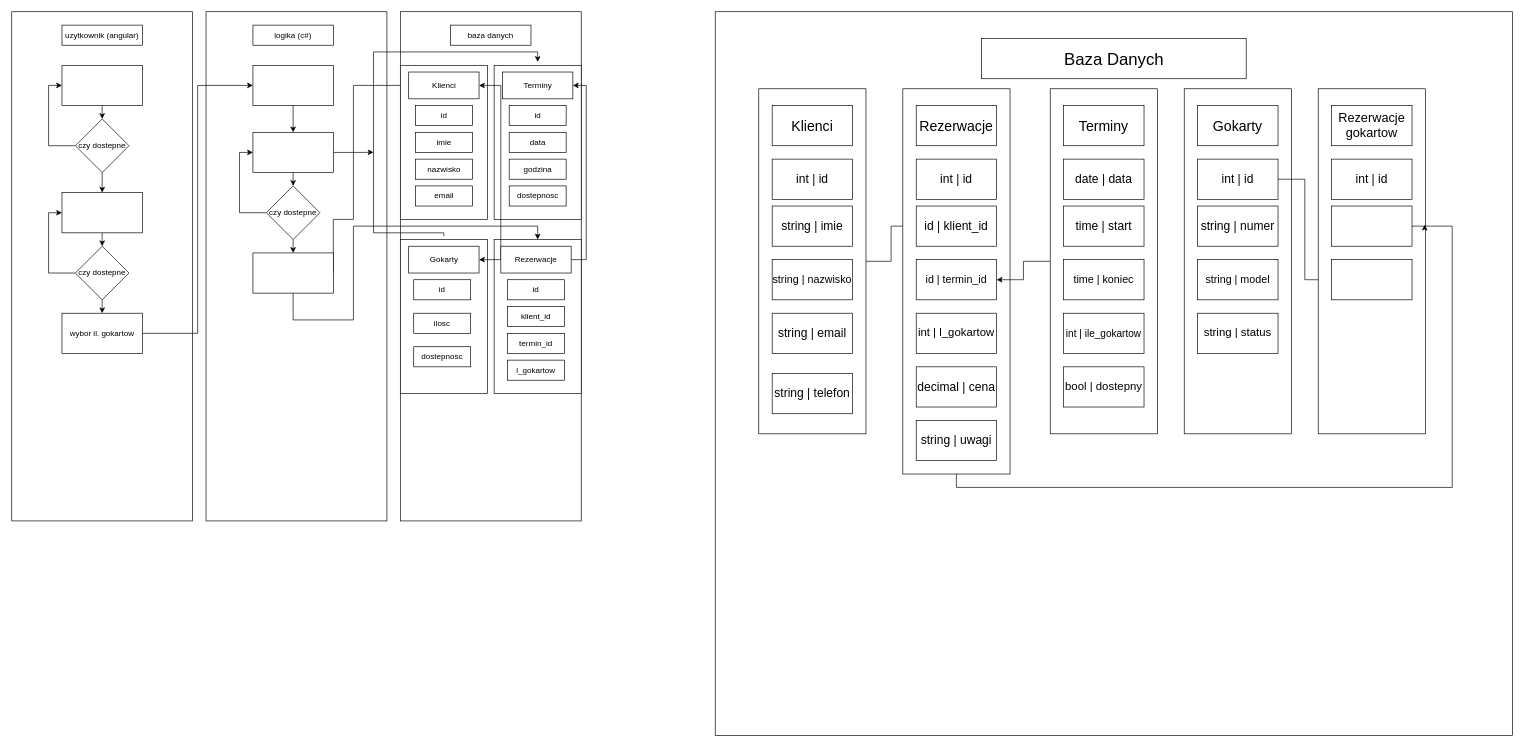
The diagram is 1524 pixels wide and 747 high, and some of its shapes have lost their labels. The centre of each missing label's shape, as x and y in pixels:
id | gokart_id: point 1371,279
id | rezerwacja_id: point 1371,225
obsluga rezerwacji: point 292,85
sprawdzanie dostepnosci: point 292,152
wybor daty: point 101,85
wybor godziny: point 101,212
zapis danych: point 292,272
